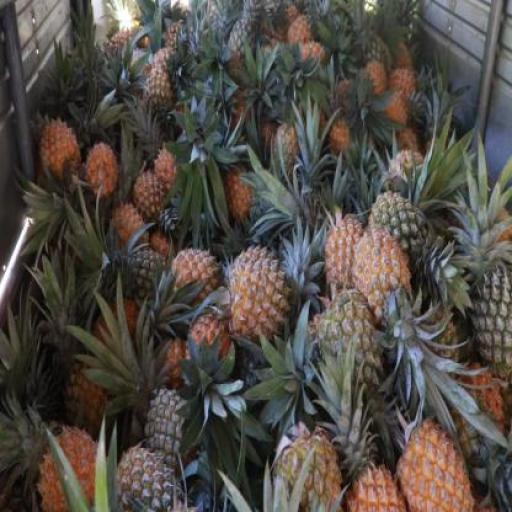------------------------------: (315, 295, 383, 394), (369, 192, 433, 290), (66, 362, 116, 437), (140, 69, 173, 127)
Pineapple - v8 v1: (396, 423, 475, 511), (36, 424, 112, 511), (354, 224, 416, 326), (227, 244, 290, 339), (324, 215, 374, 304), (184, 315, 232, 394), (178, 251, 220, 307), (40, 117, 79, 177), (86, 141, 116, 200), (130, 170, 168, 216)
